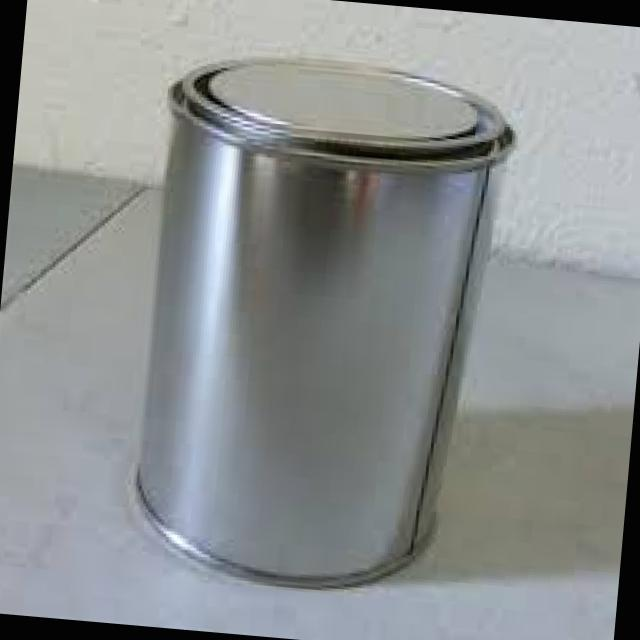metal: (137, 75, 510, 586), (169, 59, 513, 171), (207, 62, 475, 146)
